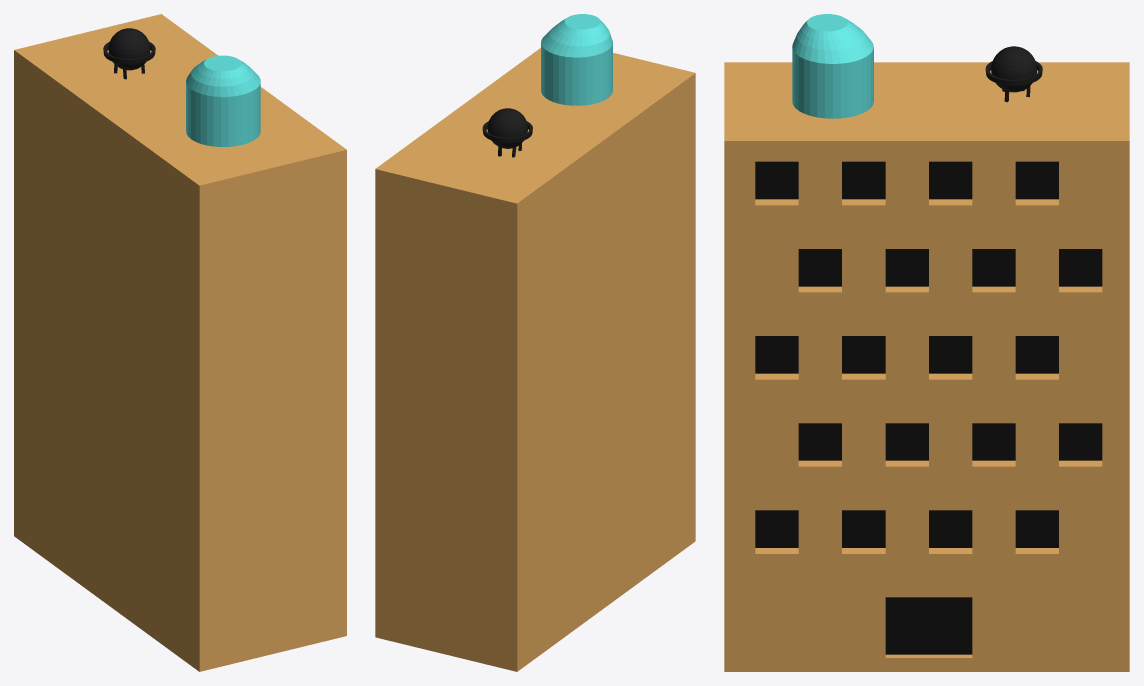
Rendered from Street_Big.fbx.
The picture shows the model from 3 angles, left to right: view 1: azimuth 30°, elevation 25°; view 2: azimuth 150°, elevation 25°; view 3: azimuth 270°, elevation 25°; orthographic projection. The views are drawn at different scales.
Visible parts, largest first — view 1: Cube.009, Cylinder.004, Sphere.001; view 2: Cube.009, Cylinder.004, Sphere.001; view 3: Cube.009, Cylinder.004, Sphere.001.
Part boxes in pixels (x1=…): Cube.009: x1=14, y1=14, x2=346, y2=671; Cylinder.004: x1=186, y1=55, x2=260, y2=146; Sphere.001: x1=103, y1=28, x2=155, y2=79; Cube.009: x1=375, y1=48, x2=695, y2=671; Cylinder.004: x1=541, y1=14, x2=612, y2=105; Sphere.001: x1=482, y1=108, x2=532, y2=157; Cube.009: x1=724, y1=62, x2=1129, y2=671; Cylinder.004: x1=792, y1=14, x2=873, y2=118; Sphere.001: x1=985, y1=46, x2=1042, y2=102.
Bounding box in the file's own units: 1496 × 5400 × 3260.
